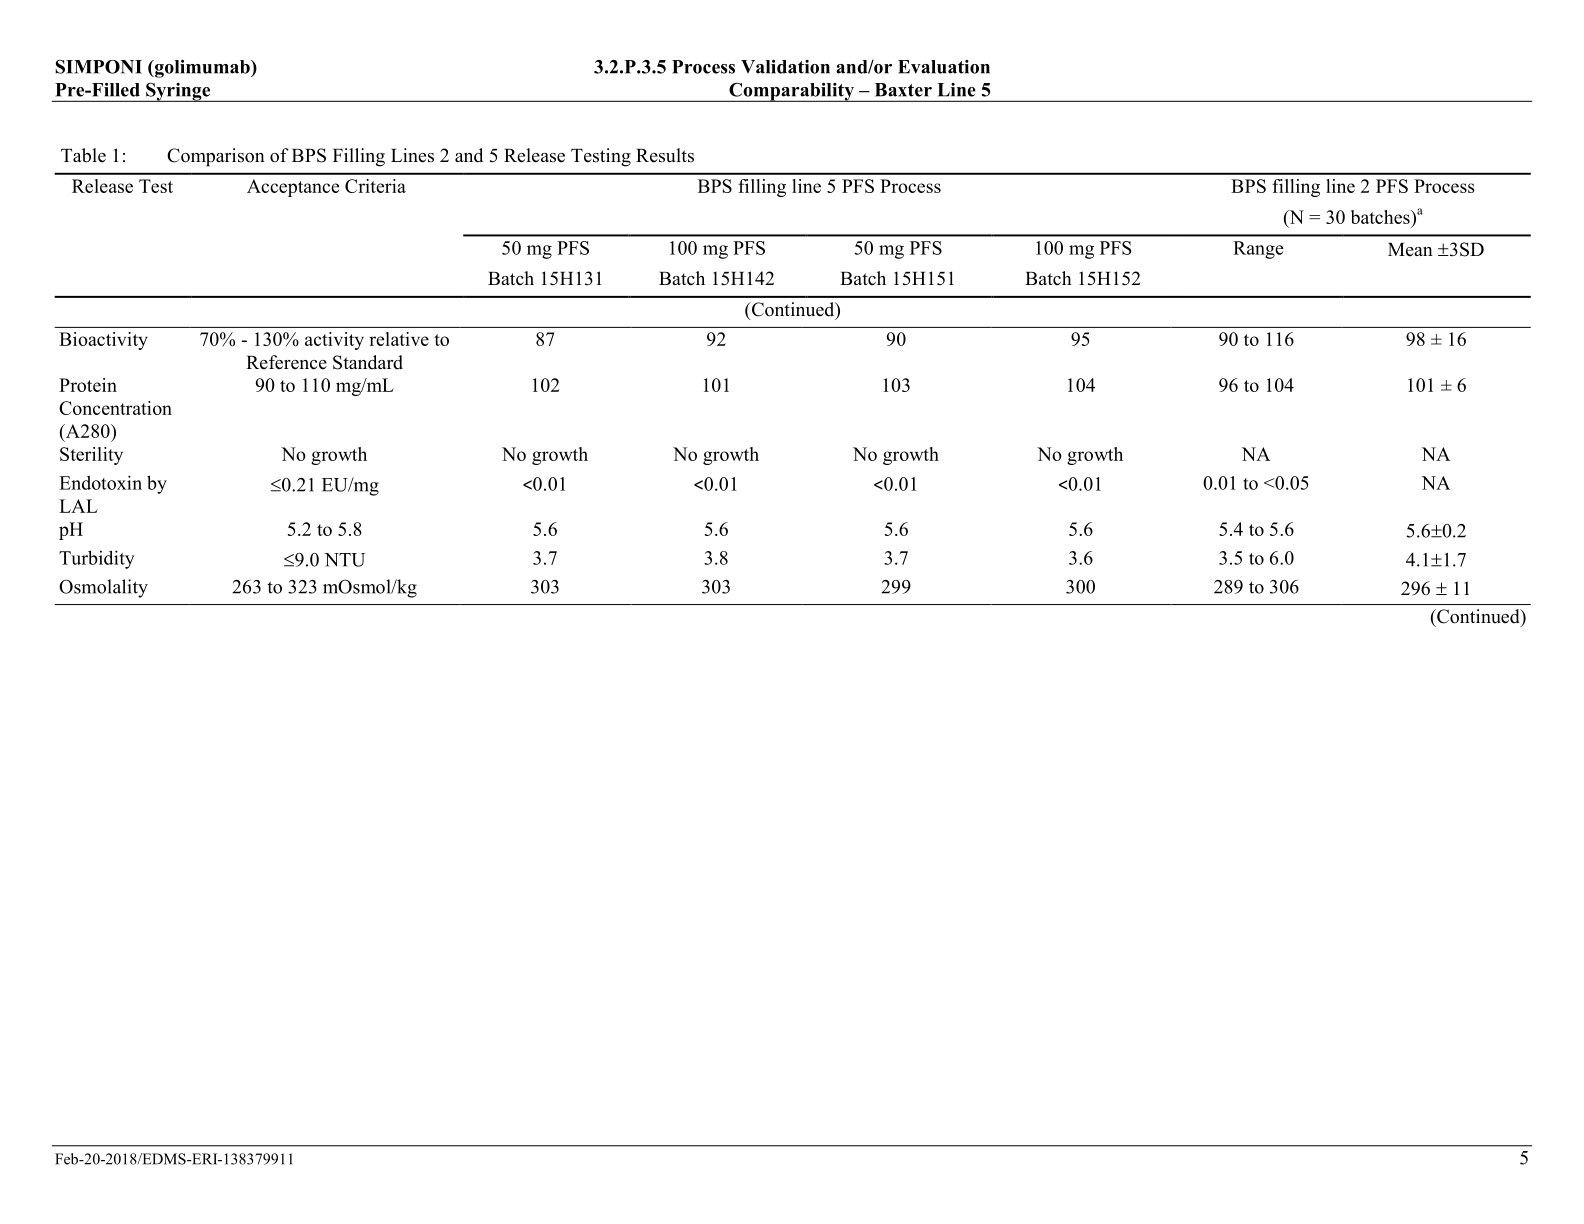partial_lined_merged_cells: (53, 171, 1533, 606)
